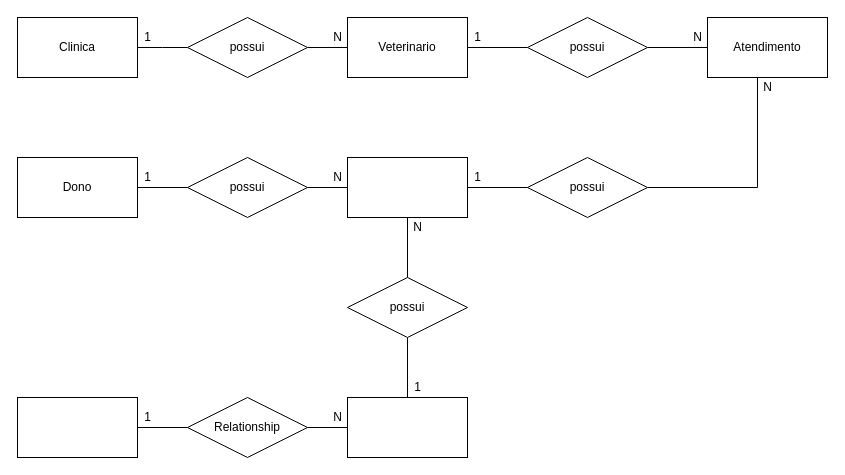
The diagram is 845 pixels wide and 475 high, and some of its shapes have lost their labels. The shapes that lost their labels are listed below. From the top down, each one's centre as x and y in pixels, then its label:
[407,187]: Pet
[77,427]: tipoPet
[407,427]: Raça
